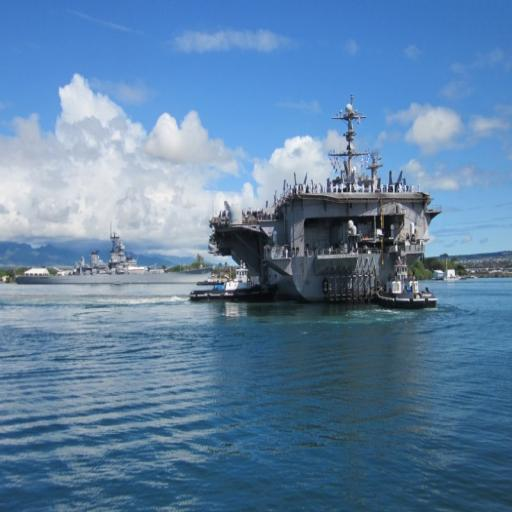Portanaves: (203, 86, 443, 308)
